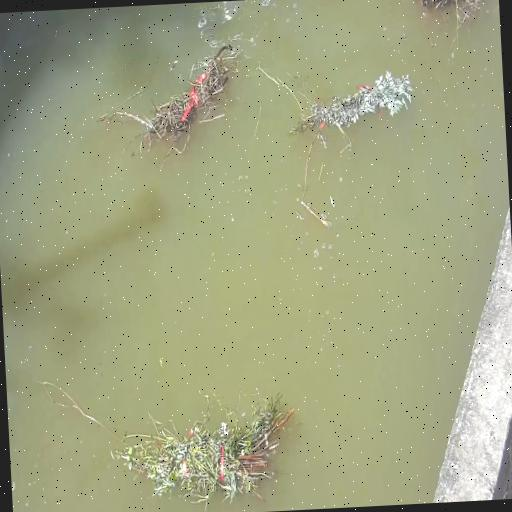twig: (103, 392, 301, 501), (128, 40, 242, 163), (286, 68, 421, 151), (408, 0, 485, 48)
